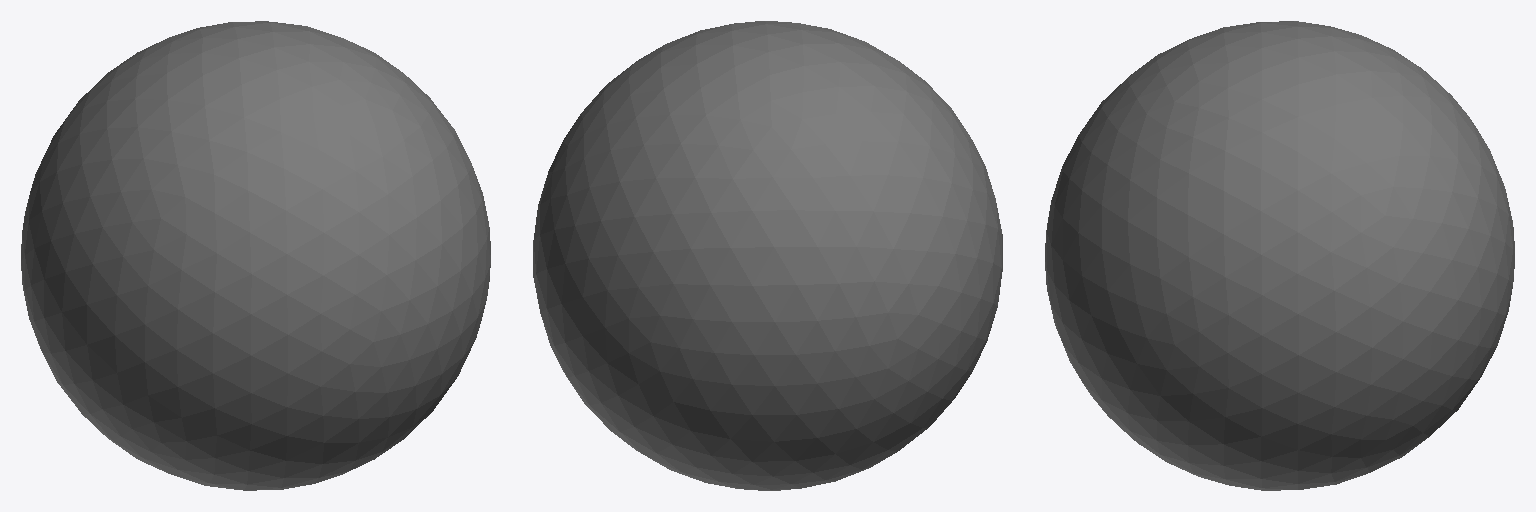
The model's file is reverseSphere.obj.
3 renders of one model, left to right at view 1: azimuth 30°, elevation 25°; view 2: azimuth 150°, elevation 25°; view 3: azimuth 270°, elevation 25°, orthographic.
Visible parts, largest first — view 1: pPlatonic2; view 2: pPlatonic2; view 3: pPlatonic2.
Part boxes in pixels (x1,y1,x2,y2): pPlatonic2: (21,21,490,490); pPlatonic2: (533,21,1002,490); pPlatonic2: (1045,21,1514,490).
Bounding box in the file's own units: 1.99 × 1.99 × 2.